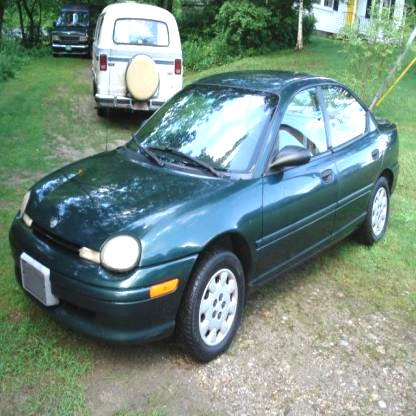Vehicle: (9, 70, 400, 364)
